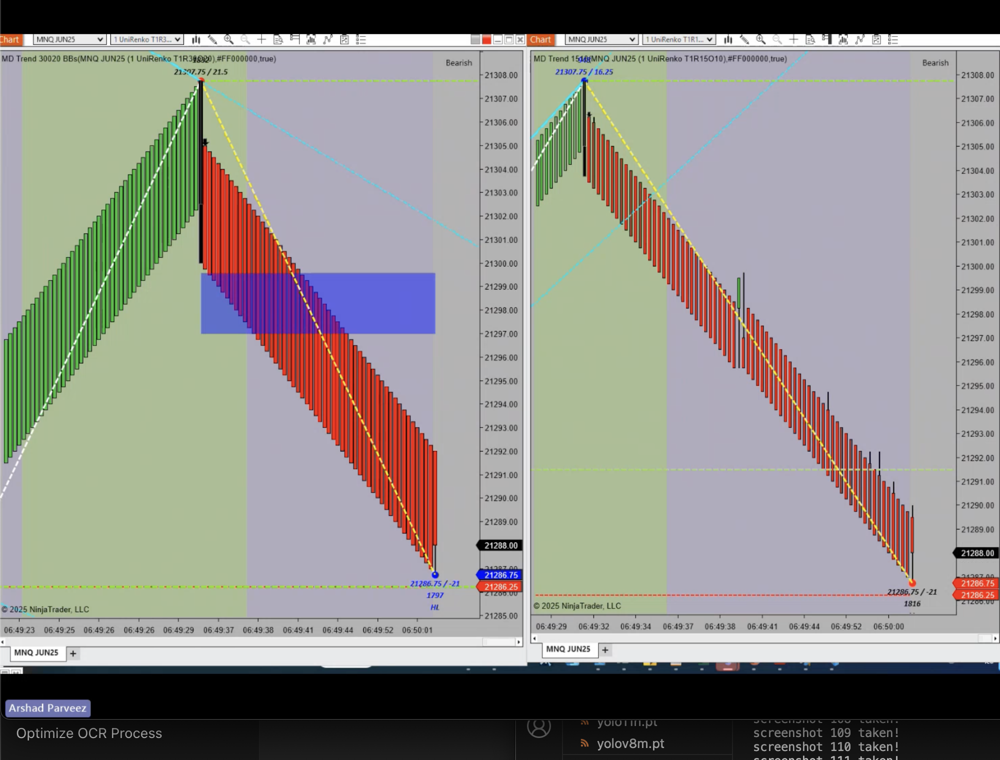HL: (424, 597, 446, 616)
